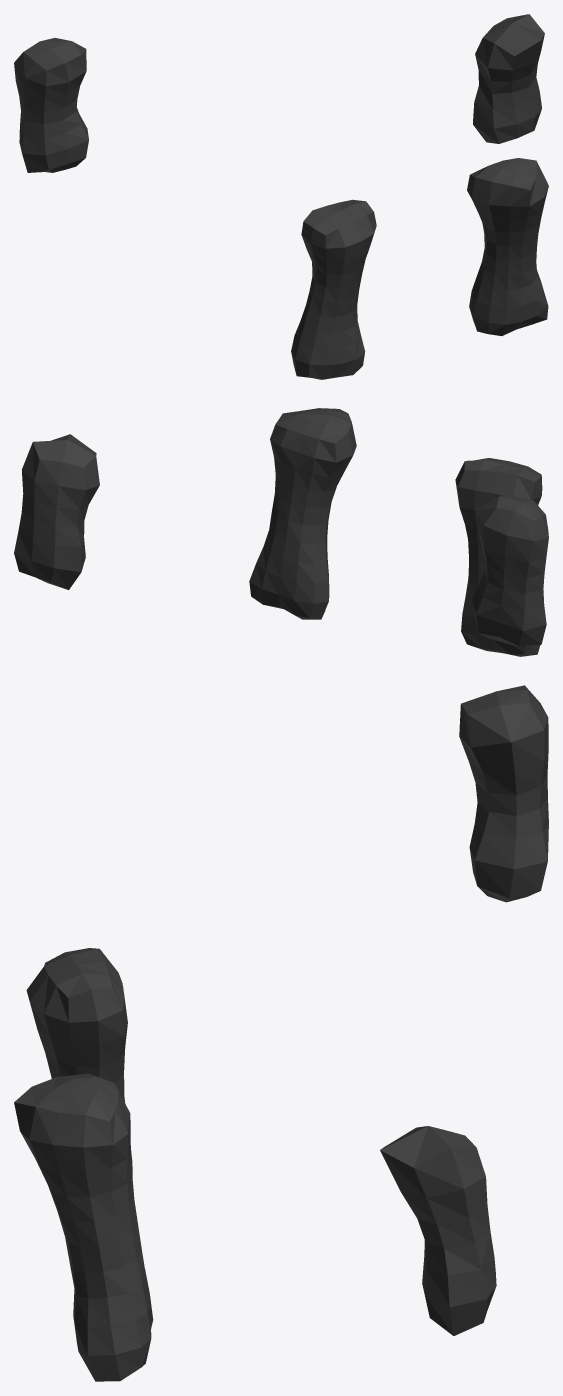
3 renders of one model, top to bottom at view 1: azimuth 30°, elevation 25°; view 2: azimuth 150°, elevation 25°; view 3: azimuth 270°, elevation 25°, orthographic. The views are drawn at different scales.
Visible parts, largest first — view 1: P2s; view 2: P2s; view 3: P2s.
Boxes of the visible parts, x1,y1,x2,y2 form: P2s: (14,14,548,379); P2s: (14,408,548,656); P2s: (14,685,548,1381).
Size of the model in its own units: 2.94 by 1.54 by 1.75.
1 material, 1 textured.
